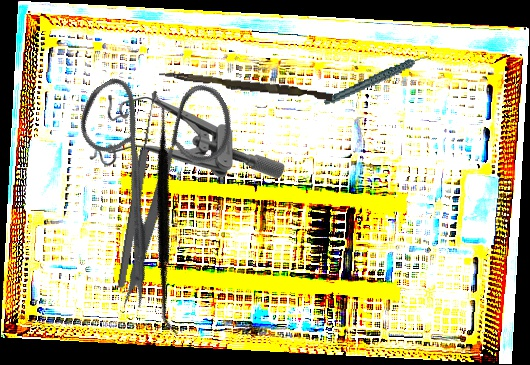Handpiece: (319, 54, 436, 106)
Iris Scissors: (20, 35, 295, 316)
Pusher: (157, 70, 334, 102)
Spatula Surgical: (54, 90, 277, 337)
Speculum: (88, 95, 285, 178)
Surgical Spoon: (115, 89, 161, 290)
